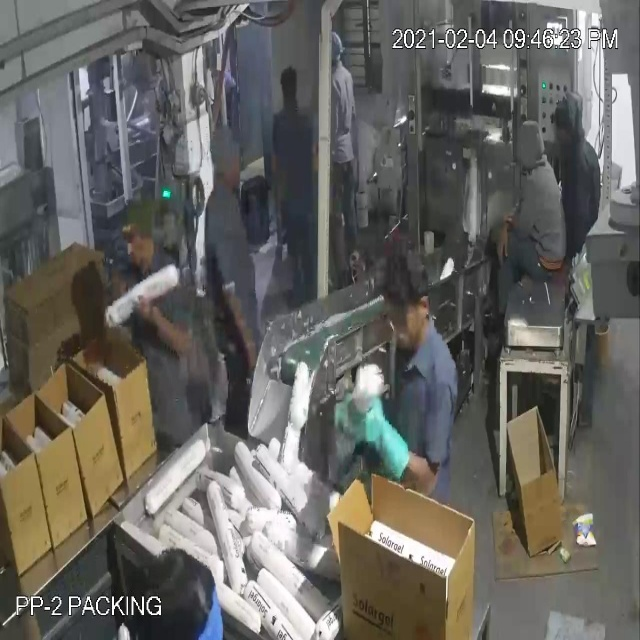Guantes: (336, 372, 408, 483)
Sin_guantes: (132, 275, 198, 372), (219, 267, 274, 381)
